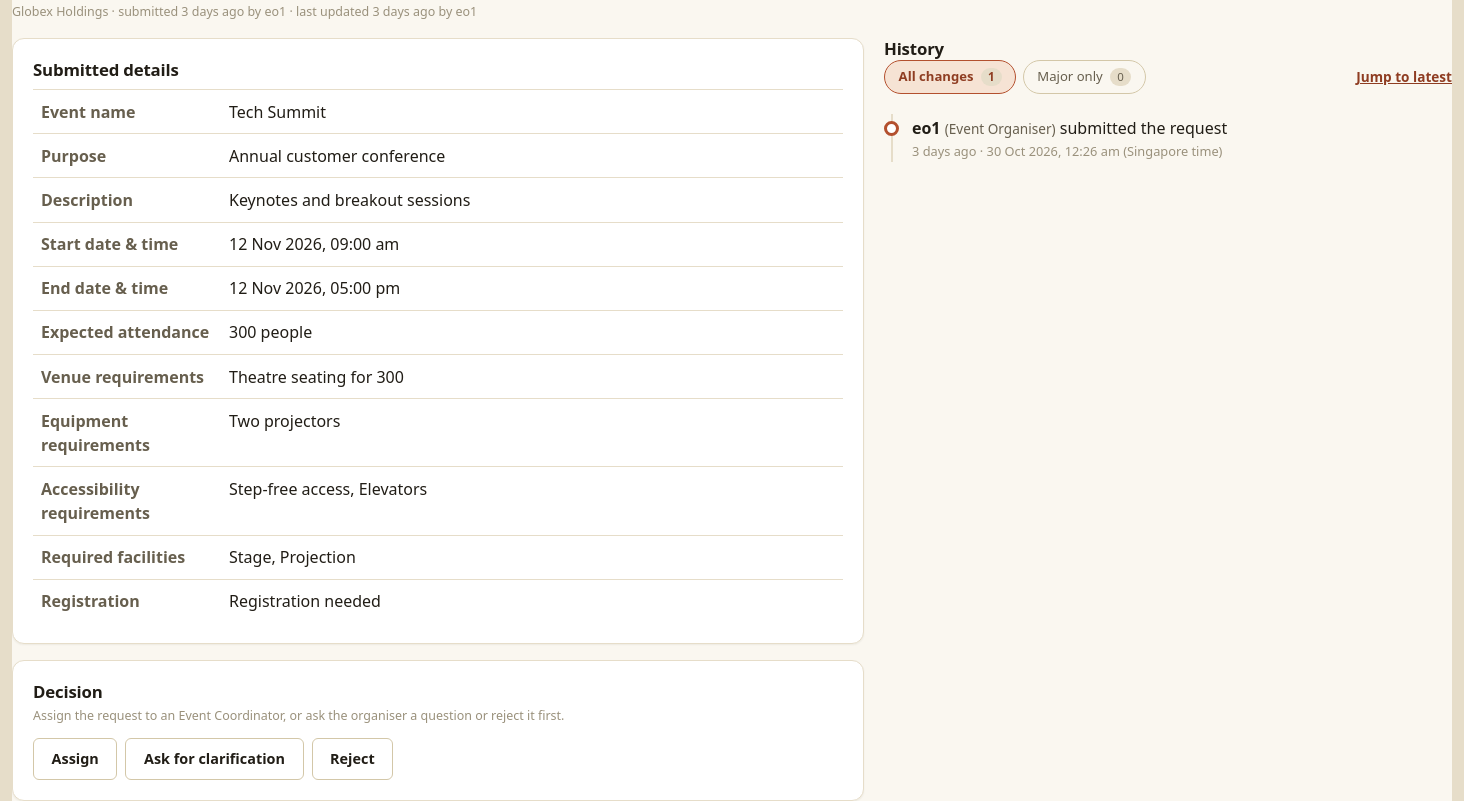
Test: IncomingRequestReviewPage (ECL-C3 Lead review, ELC-C6 assignment, ELC-C5 reassignment) › lists every Event Coordinator to choose from, with none chosen to begin with
(page scrolled)
Click the button "Assign": (75, 759) [33,738,117,780]
(page scrolled)
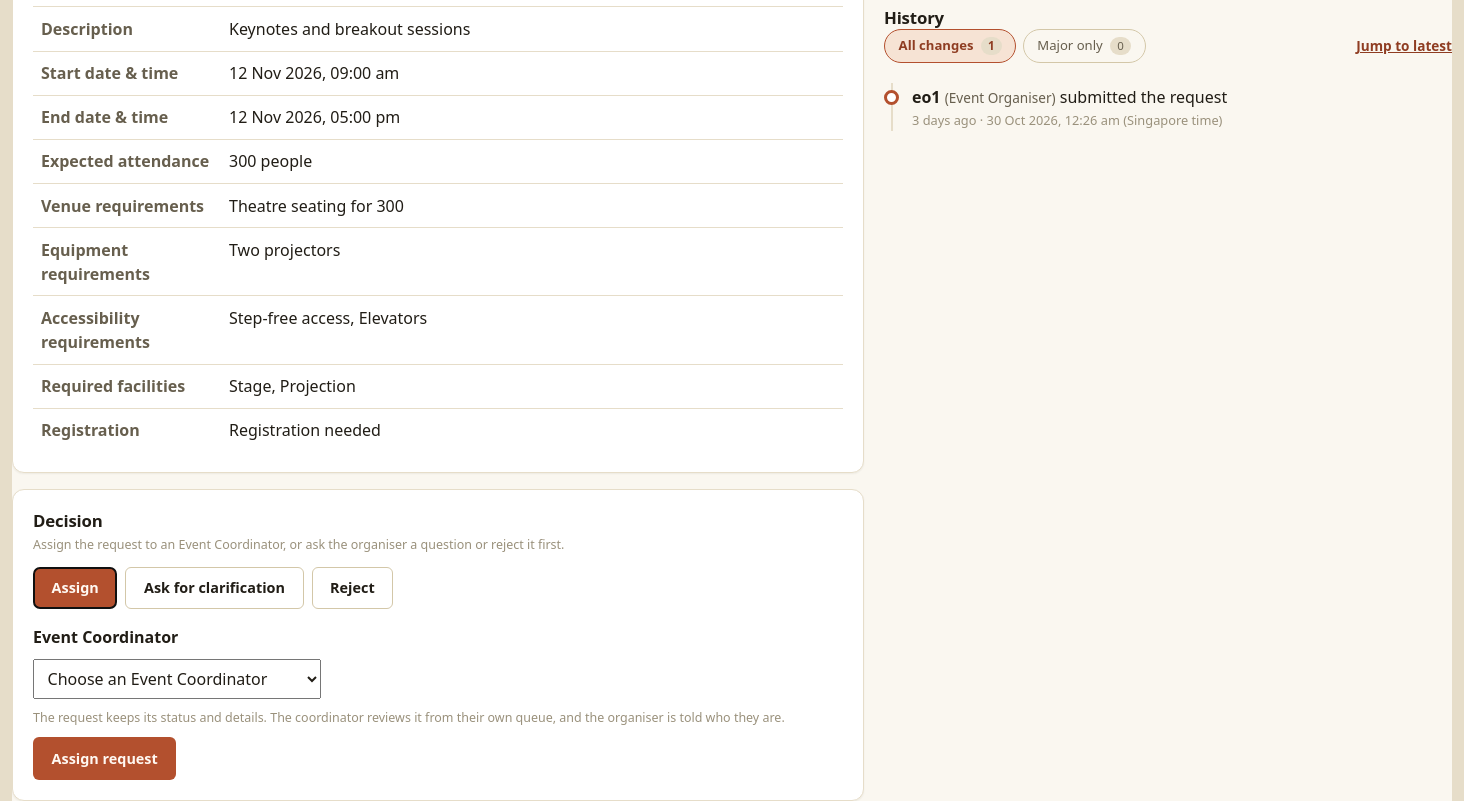
Expected: the dropdown labelled "Event Coordinator" shows "Choose an Event Coordinator", [33,659,321,699]
